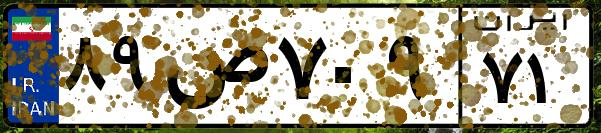0: (330, 28, 385, 110)
1: (525, 38, 570, 115)
7: (270, 28, 330, 110), (475, 38, 525, 113)
8: (57, 26, 110, 100)
9: (385, 28, 445, 110), (110, 28, 158, 98)
ص: (158, 20, 270, 120)
